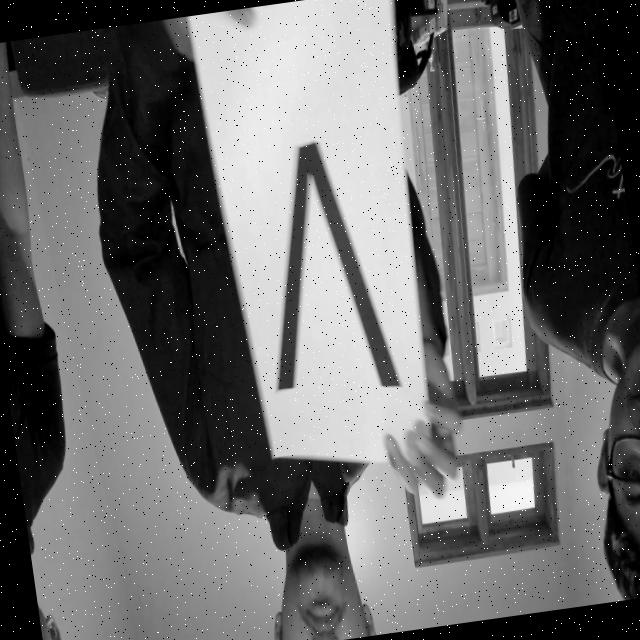v: (231, 107, 413, 431)
